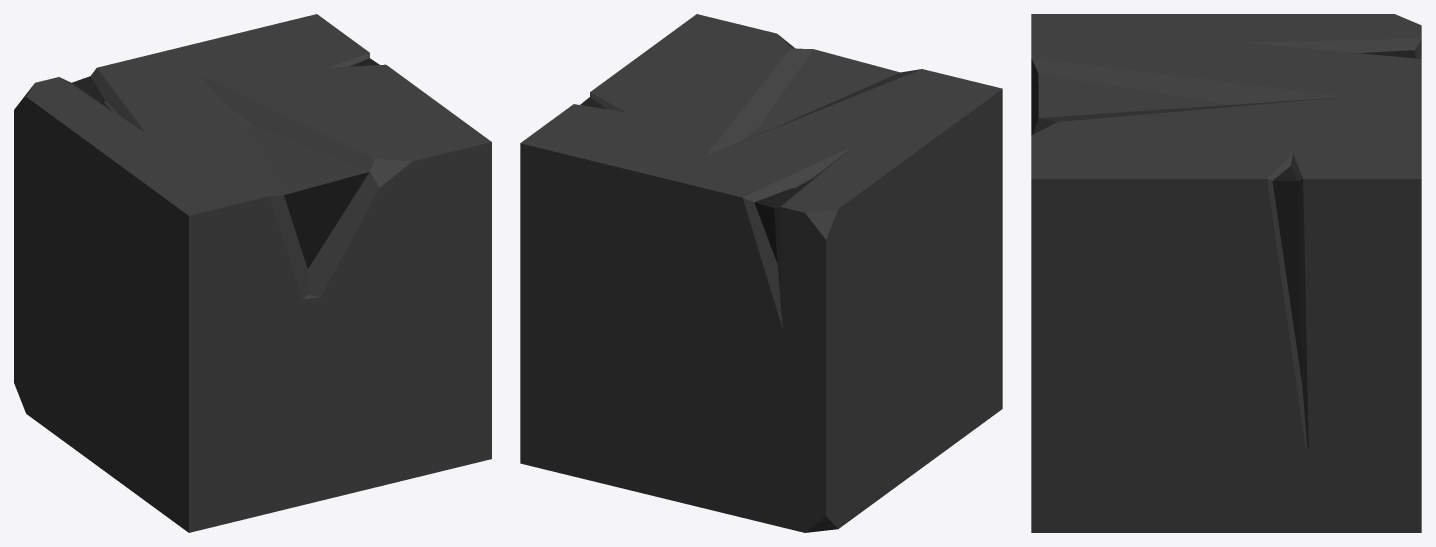
File: nice_one.glb
3 renders of one model, left to right at view 1: azimuth 30°, elevation 25°; view 2: azimuth 150°, elevation 25°; view 3: azimuth 270°, elevation 25°, orthographic. The views are drawn at different scales.
Parts seen in each view (by area): view 1: Cube; view 2: Cube; view 3: Cube.
Boxes of the visible parts, bbox=[...] form: Cube: bbox=[14, 14, 491, 532]; Cube: bbox=[520, 14, 1002, 532]; Cube: bbox=[1031, 14, 1421, 532].
Size of the model in its own units: 0.5928 by 0.5928 by 0.5928.
1 material, 1 textured.
